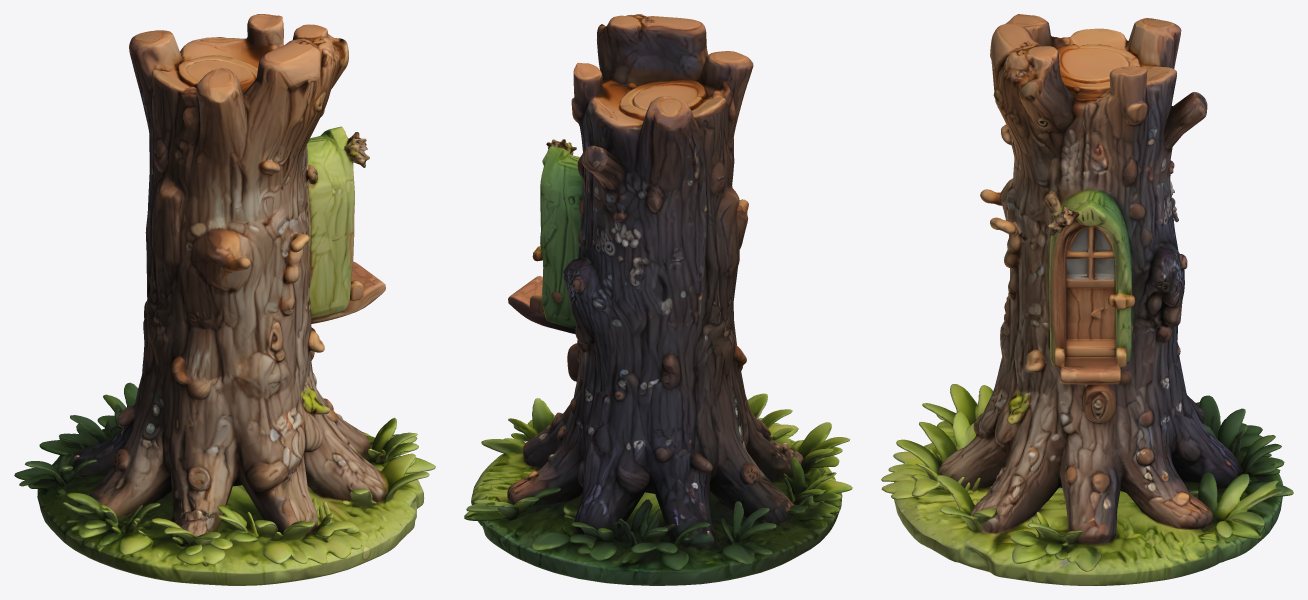
The model's file is prop-fairy-door.glb.
3 views of the same model, side by side, from view 1: azimuth 30°, elevation 25°; view 2: azimuth 150°, elevation 25°; view 3: azimuth 270°, elevation 25° (orthographic). The views are drawn at different scales.
Parts seen in each view (by area): view 1: tripo_node_6d0853fa-4591-4a90-a1ec-470f0ff02607; view 2: tripo_node_6d0853fa-4591-4a90-a1ec-470f0ff02607; view 3: tripo_node_6d0853fa-4591-4a90-a1ec-470f0ff02607.
Part boxes in pixels (box(x1,y1,x2,y2)): tripo_node_6d0853fa-4591-4a90-a1ec-470f0ff02607: box(14, 14, 435, 585); tripo_node_6d0853fa-4591-4a90-a1ec-470f0ff02607: box(464, 14, 852, 585); tripo_node_6d0853fa-4591-4a90-a1ec-470f0ff02607: box(881, 14, 1293, 585).
Bounding box in the file's own units: 0.3664 × 0.5 × 0.3652.
Materials: 1 (1 with a texture image).
